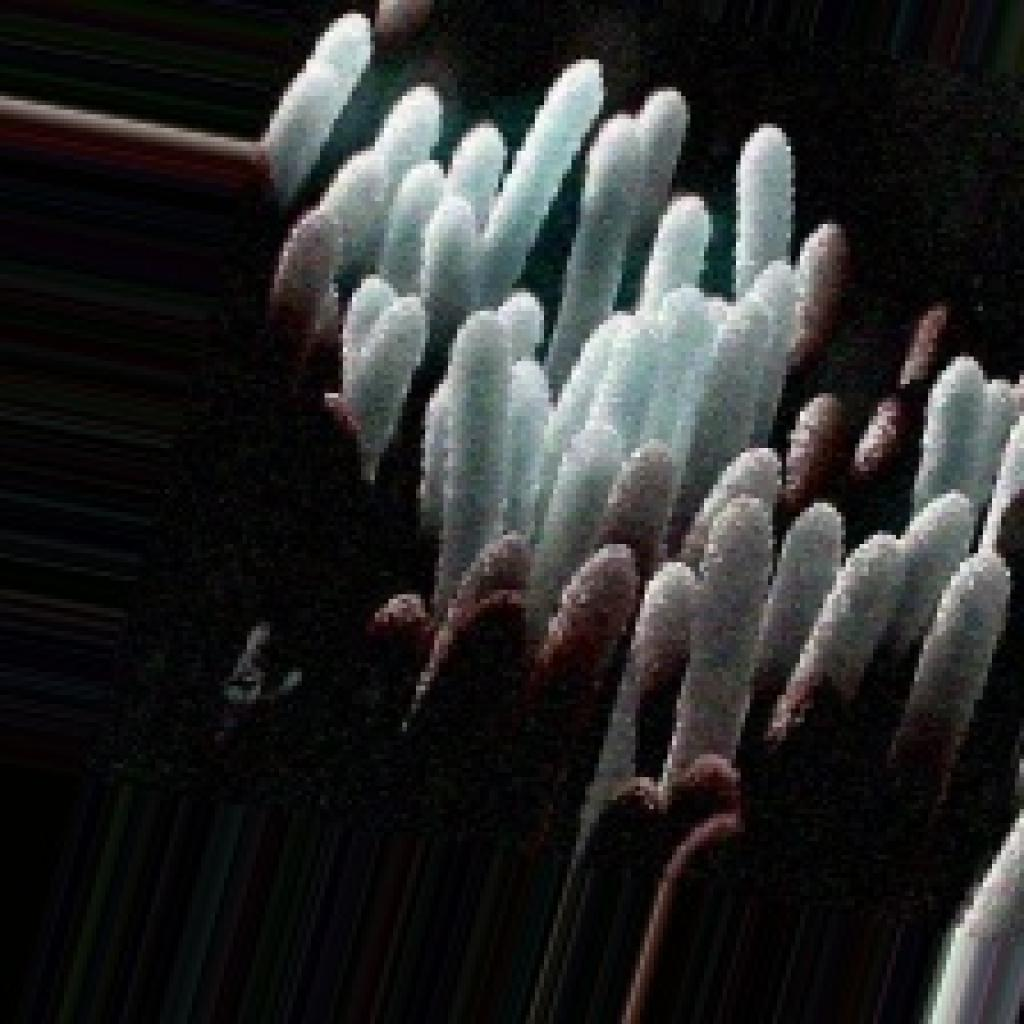Rodbacteria: (18, 0, 1019, 1019)
